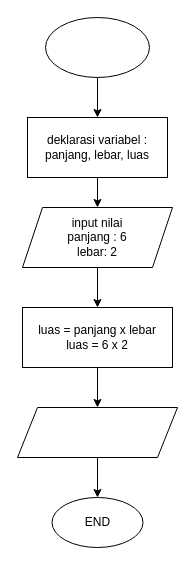
Some shapes in this 195 by 565 pixel diagram are drawn without their labels. Each missing label, with the centre of its shape:
"luas = 12" belongs at [97,432].
"START" belongs at [97,47].
